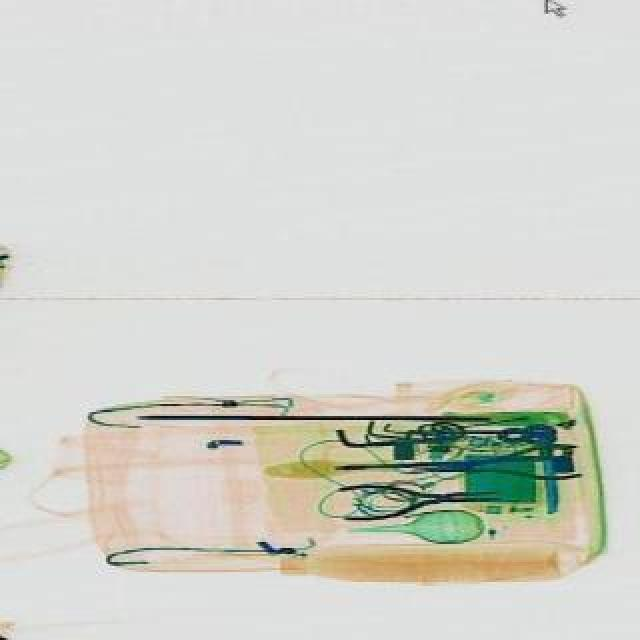wrench: (332, 476, 498, 522), (408, 442, 580, 486)
